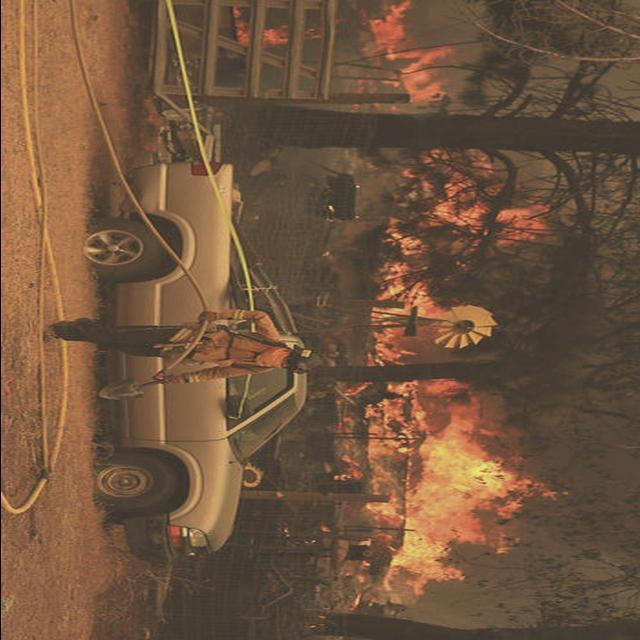Fire: (330, 378, 570, 618), (364, 192, 554, 360), (359, 1, 464, 106), (232, 6, 318, 50)
